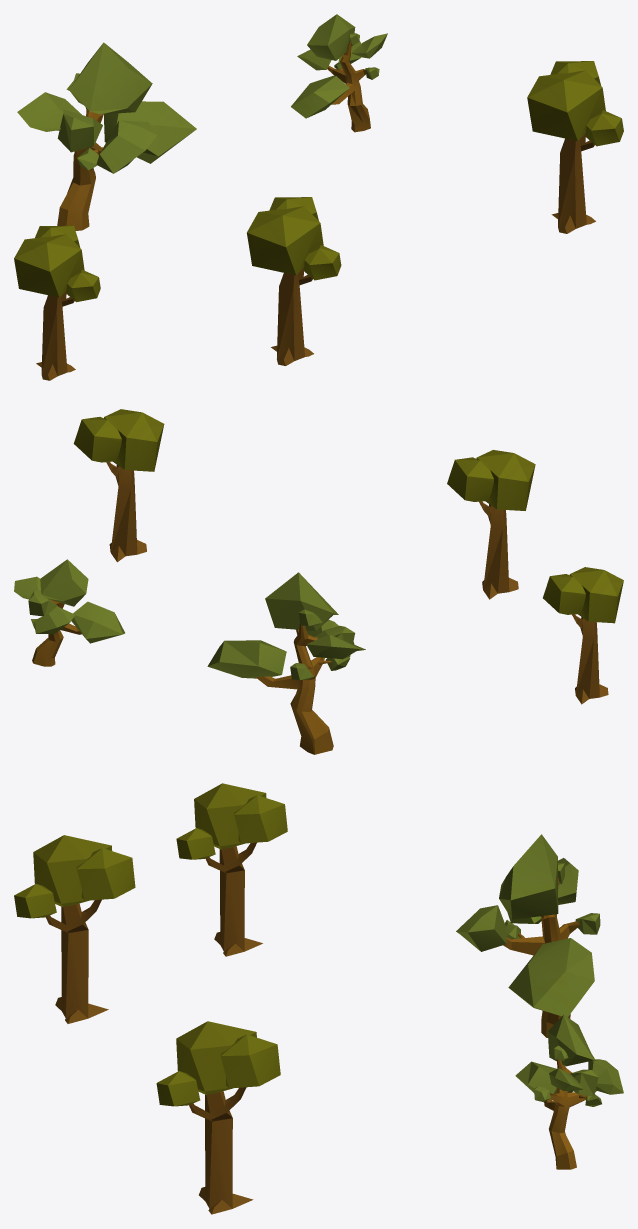
Rendered from arboles.obj.
The picture shows the model from 3 angles, top to bottom: view 1: azimuth 30°, elevation 25°; view 2: azimuth 150°, elevation 25°; view 3: azimuth 270°, elevation 25°; orthographic projection. The views are drawn at different scales.
Parts seen in each view (by area): view 1: polySurface63 polySurface311, polySurface63 polySurface358, polySurface63 polySurface359, polySurface63 polySurface366, polySurface310 polySurface63; view 2: polySurface63 polySurface311, polySurface63 polySurface358, polySurface63 polySurface359, polySurface310 polySurface63, polySurface63 polySurface366; view 3: polySurface63 polySurface311, polySurface63 polySurface358, polySurface63 polySurface359, polySurface63 polySurface366, polySurface310 polySurface63.
Boxes of the visible parts, box(x1,y1,x2,y2) form: polySurface63 polySurface311: box(17, 42, 196, 230); polySurface63 polySurface358: box(527, 61, 623, 233); polySurface63 polySurface359: box(247, 197, 341, 365); polySurface63 polySurface366: box(14, 225, 100, 380); polySurface310 polySurface63: box(291, 14, 387, 132); polySurface63 polySurface311: box(207, 572, 365, 754); polySurface63 polySurface358: box(73, 409, 164, 562); polySurface63 polySurface359: box(447, 450, 535, 599); polySurface310 polySurface63: box(14, 559, 124, 666); polySurface63 polySurface366: box(543, 567, 623, 704); polySurface63 polySurface311: box(456, 834, 600, 1037); polySurface63 polySurface358: box(156, 1021, 280, 1214); polySurface63 polySurface359: box(14, 835, 135, 1023); polySurface63 polySurface366: box(176, 783, 287, 956); polySurface310 polySurface63: box(515, 1014, 623, 1169).
Size of the model in its own units: 1627 by 495 by 1270.
Materials: 2 (2 with a texture image).
